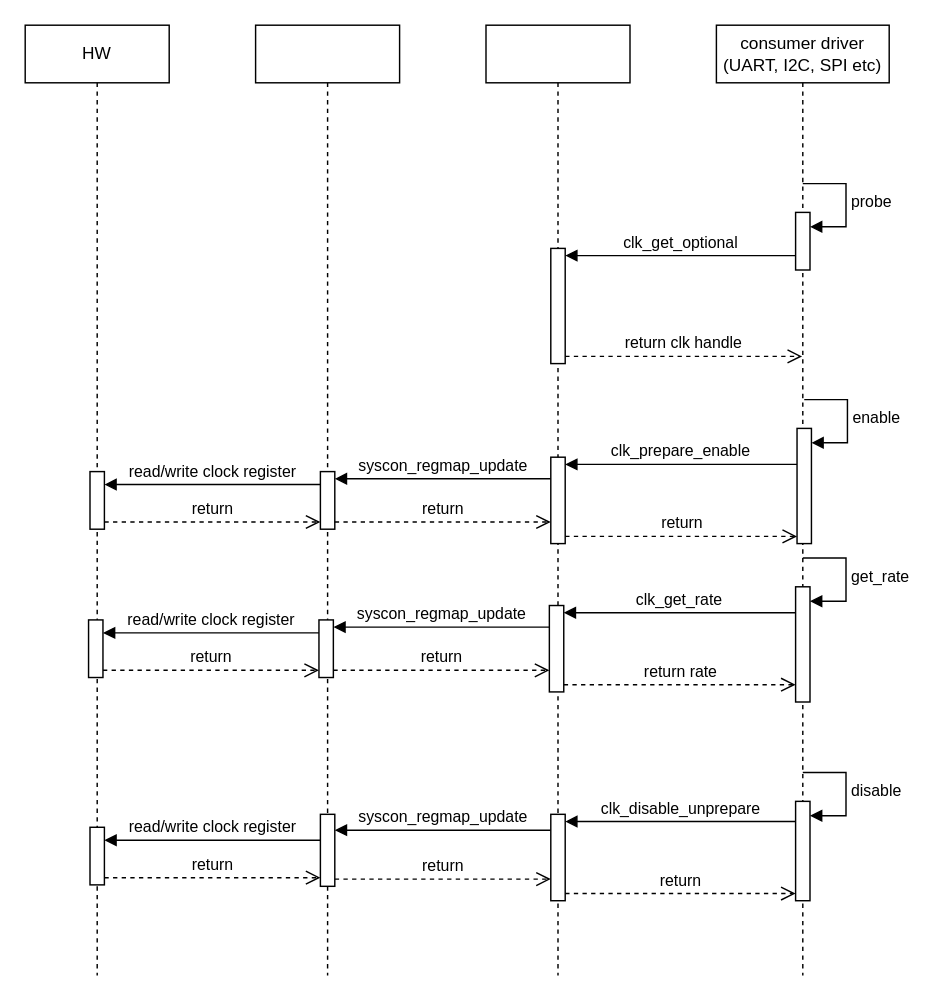
The diagram is 935 pixels wide and 1001 high, and some of its shapes have lost their labels. The shapes that lost their labels are listed below. From the top down, each one's box as (x1, y1, x2, y2) in pixels, then its label:
(254, 24, 400, 976): Axera CLock Driver
(485, 24, 630, 976): CCF
